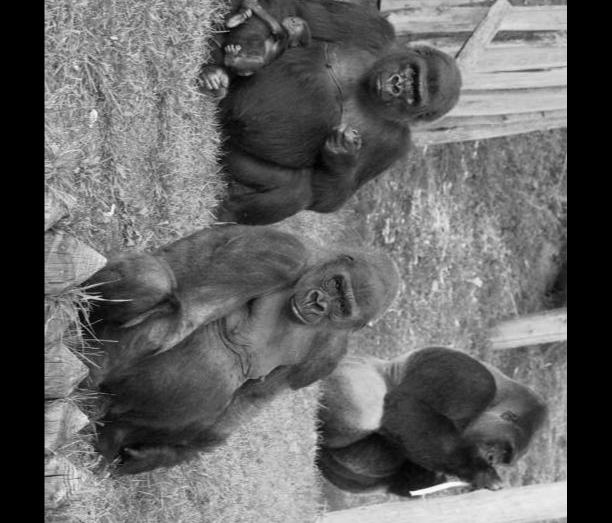gorille_Autres: (84, 218, 414, 474), (210, 0, 481, 253), (321, 351, 560, 523)
